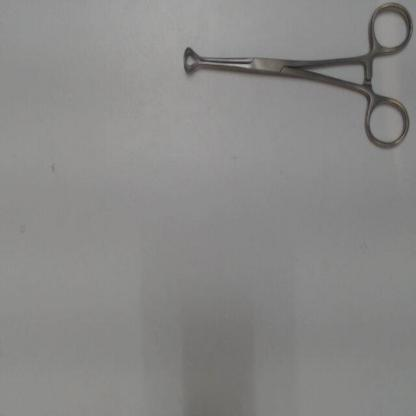Babcock Tissue Forceps: (177, 2, 415, 156)
